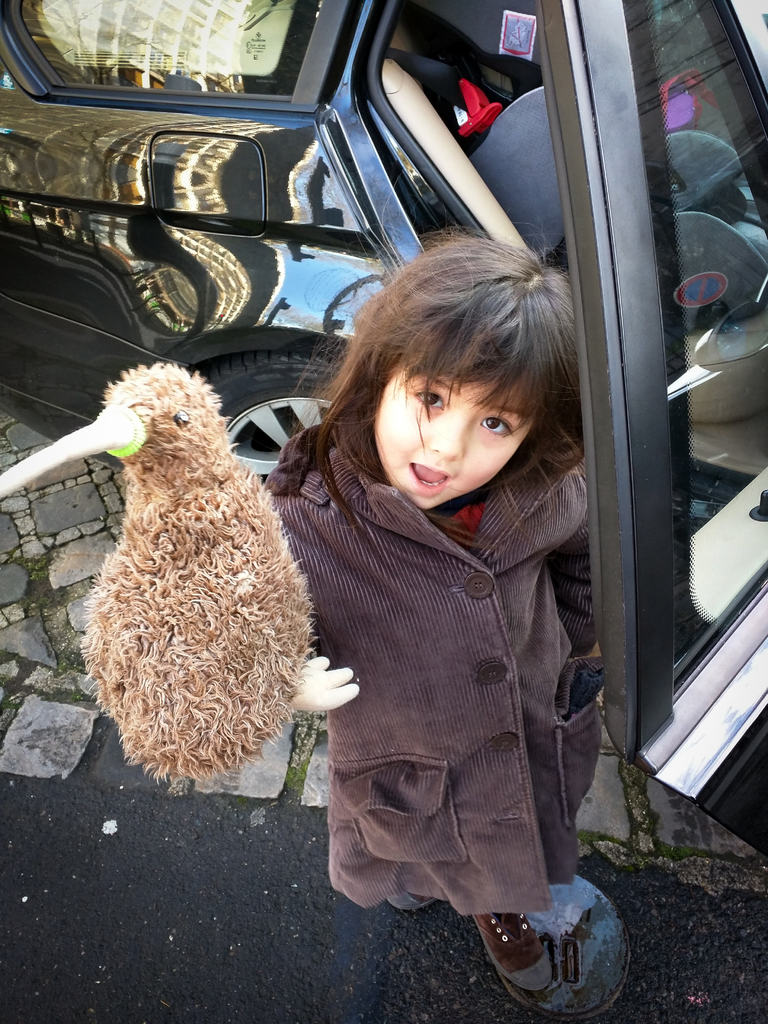Human-face: (373, 331, 546, 508)
